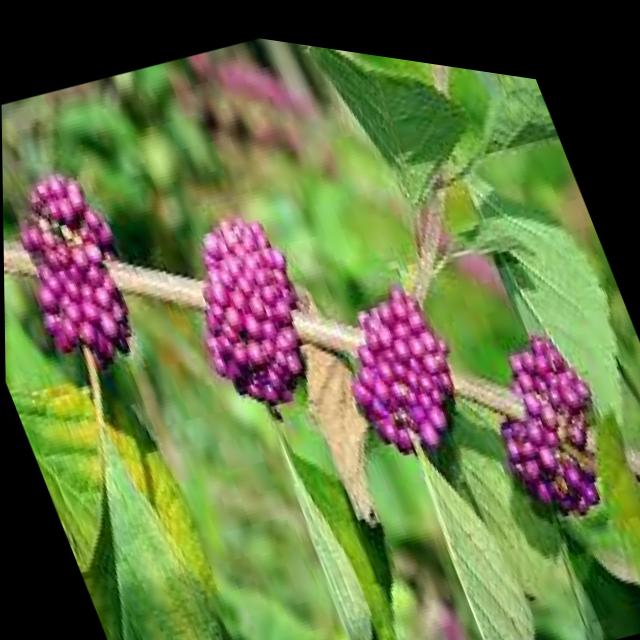Flower: (157, 178, 338, 418), (456, 288, 635, 526), (2, 156, 154, 375), (329, 265, 467, 461)
